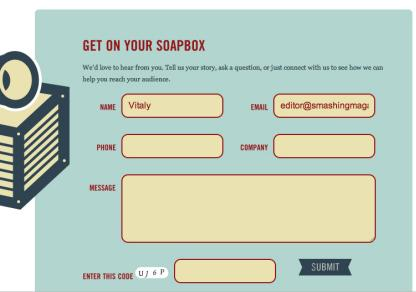button: (297, 258, 352, 277)
field: (119, 173, 377, 243), (272, 92, 376, 120), (121, 92, 224, 119), (272, 133, 376, 159), (173, 258, 277, 284), (120, 134, 224, 158)
